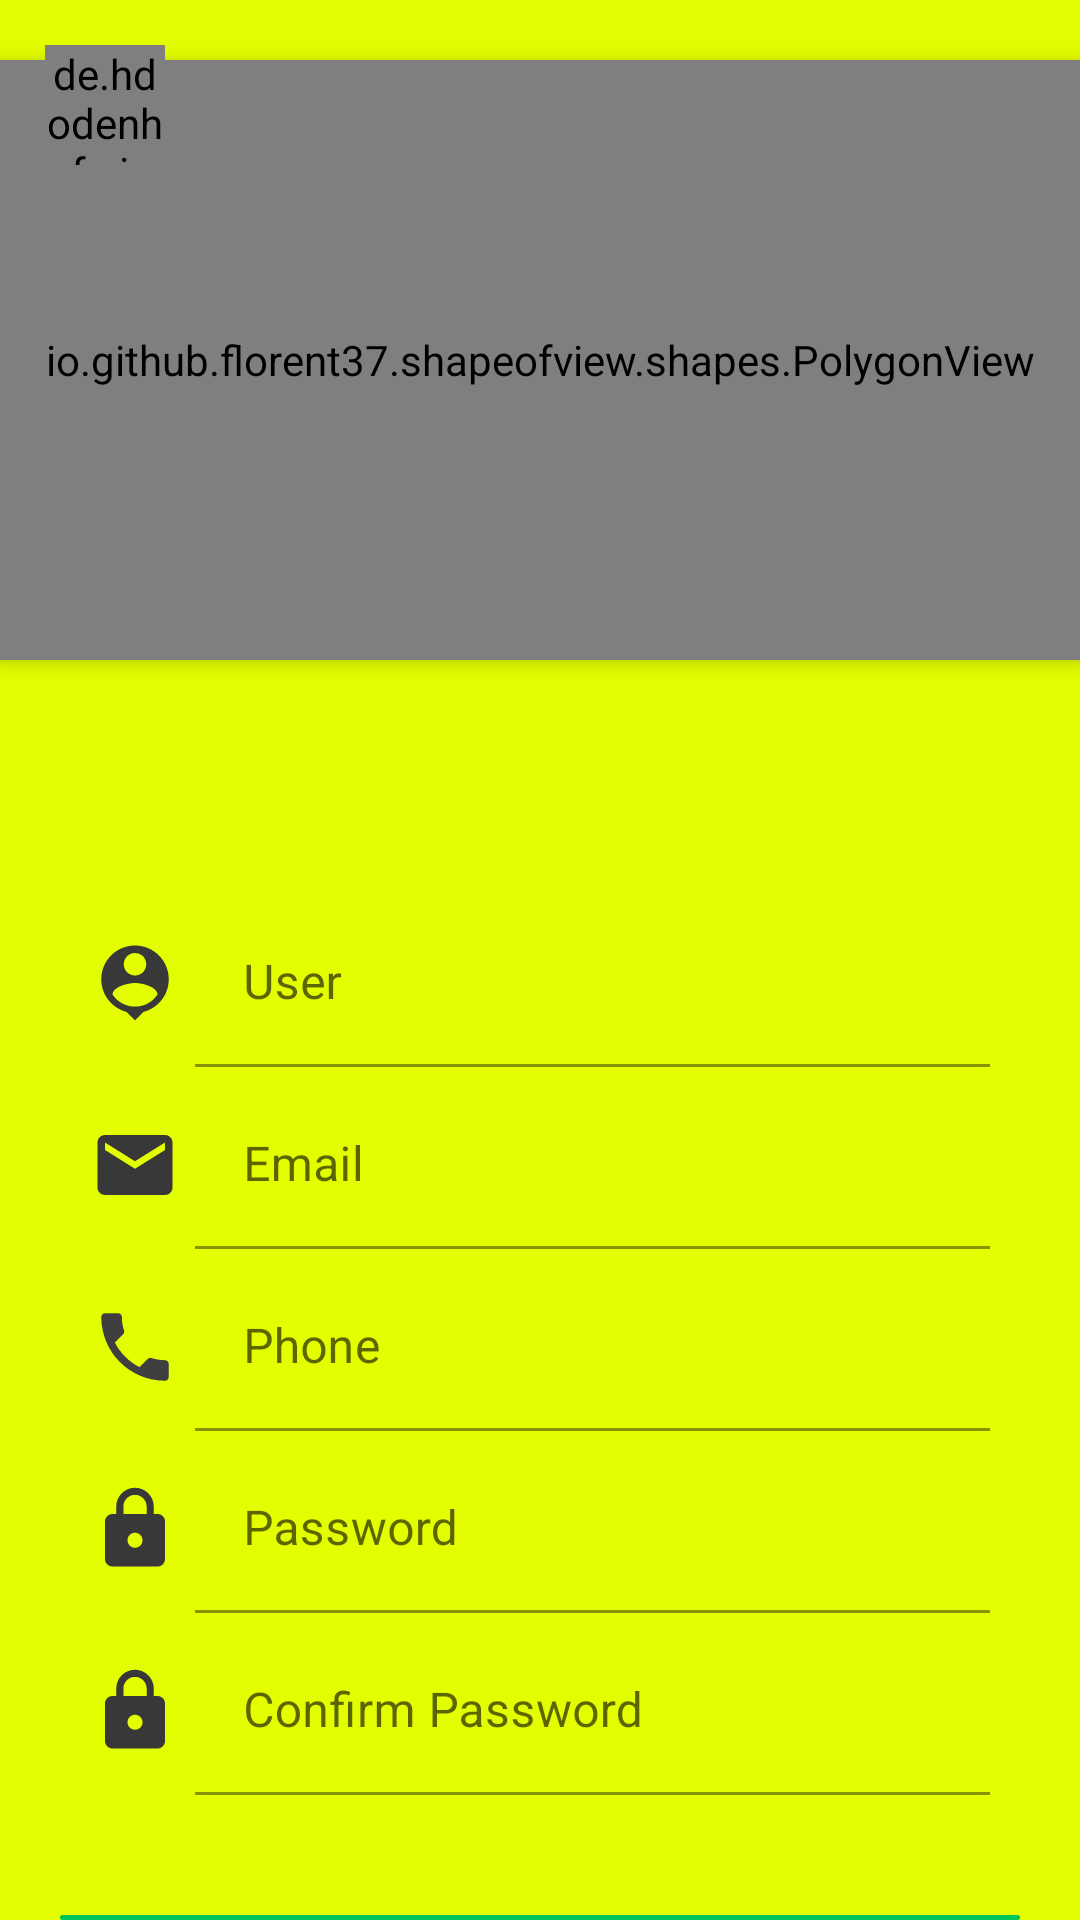

Icon click points for this 1080px x 1920px phone screenshot, format (x=x, y=y):
person pin: (x=135, y=982)
